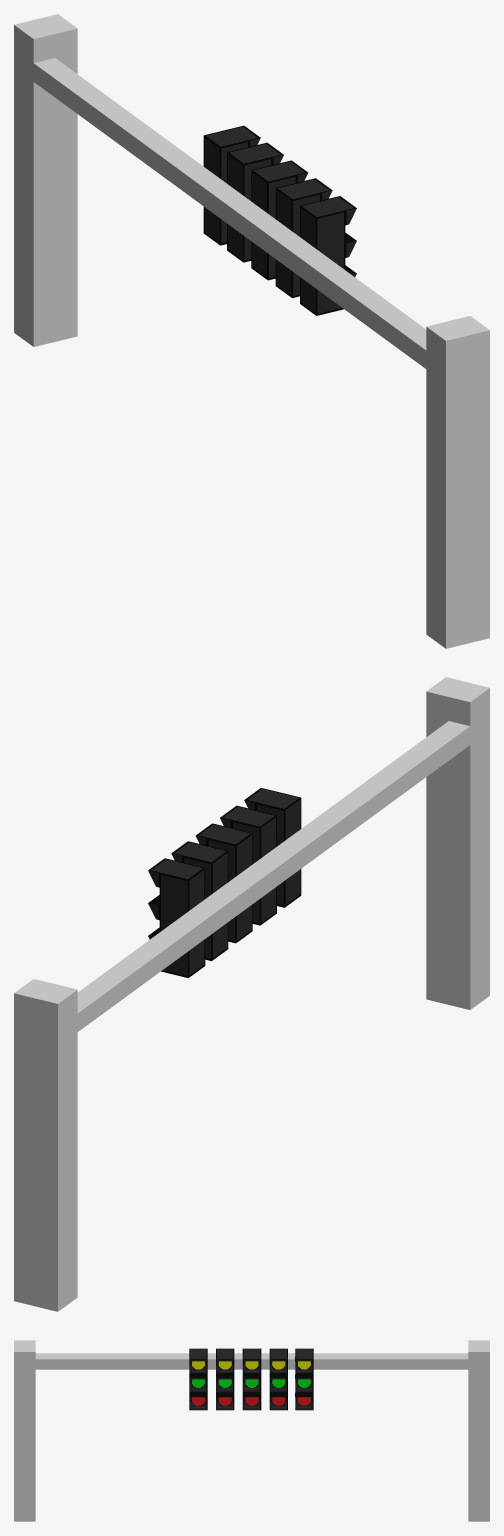
Rendered from lights.fbx.
3 renders of one model, top to bottom at view 1: azimuth 30°, elevation 25°; view 2: azimuth 150°, elevation 25°; view 3: azimuth 270°, elevation 25°, orthographic. The views are drawn at different scales.
Visible parts, largest first — view 1: Cube, Cube.005, Cube.003, Cube.002, Cube.001, Cube.004; view 2: Cube, Cube.004, Cube.005, Cube.003, Cube.001, Cube.002; view 3: Cube, Cube.001, Cube.005, Cube.004, Cube.003, Cube.002.
Boxes of the visible parts, x1,y1,x2,y2 form: Cube: (14,14,489,648); Cube.005: (300,196,356,315); Cube.003: (275,178,332,298); Cube.002: (227,142,283,262); Cube.001: (251,160,308,280); Cube.004: (203,125,260,245); Cube: (14,677,489,1311); Cube.004: (148,858,205,978); Cube.005: (244,788,301,907); Cube.003: (220,805,276,925); Cube.001: (195,823,252,943); Cube.002: (171,841,228,961); Cube: (14,1340,489,1521); Cube.001: (242,1348,261,1410); Cube.005: (189,1348,207,1410); Cube.004: (295,1348,313,1410); Cube.003: (216,1348,234,1410); Cube.002: (269,1348,287,1410).
Bounding box in the file's own units: 150 × 629 × 1600.
